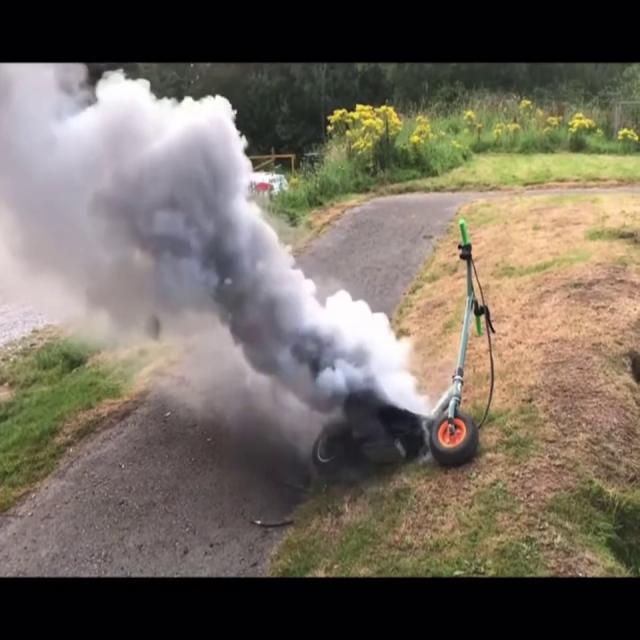Smoke: (0, 64, 255, 342), (11, 292, 410, 468)
